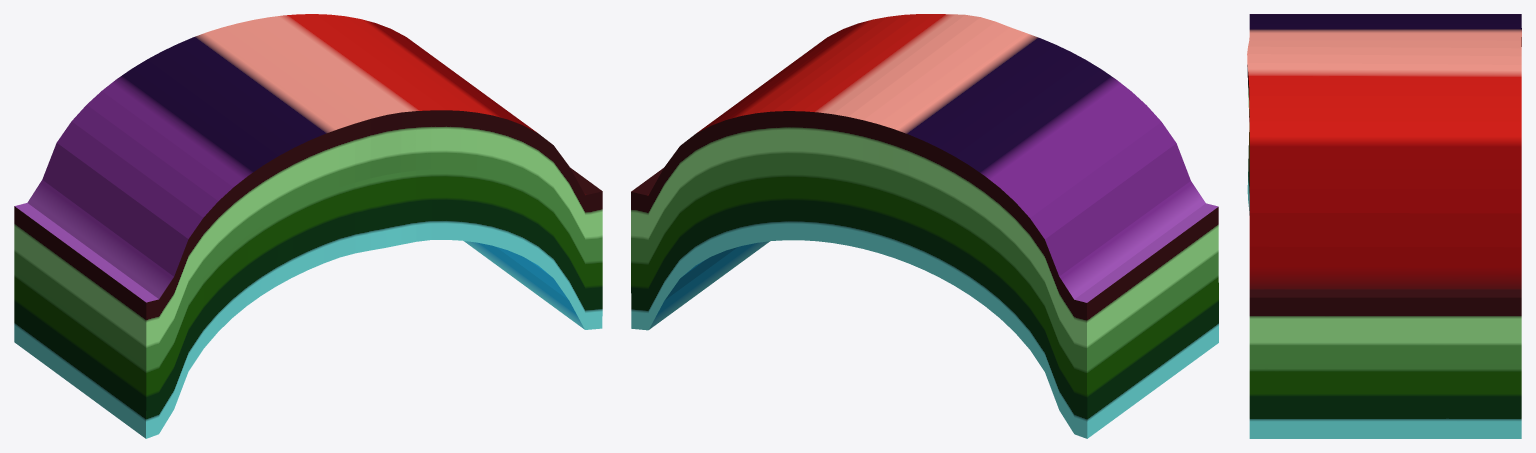
The model's file is MeshesElectricBoogaloo.fbx.
The picture shows the model from 3 angles, left to right: view 1: azimuth 30°, elevation 25°; view 2: azimuth 150°, elevation 25°; view 3: azimuth 270°, elevation 25°; orthographic projection. The views are drawn at different scales.
Parts seen in each view (by area): view 1: Paddle; view 2: Paddle; view 3: Paddle.
Boxes of the visible parts, x1,y1,x2,y2 form: Paddle: [14, 14, 602, 438]; Paddle: [631, 14, 1218, 438]; Paddle: [1247, 14, 1521, 438].
Size of the model in its own units: 4 by 2.24 by 2.02.
